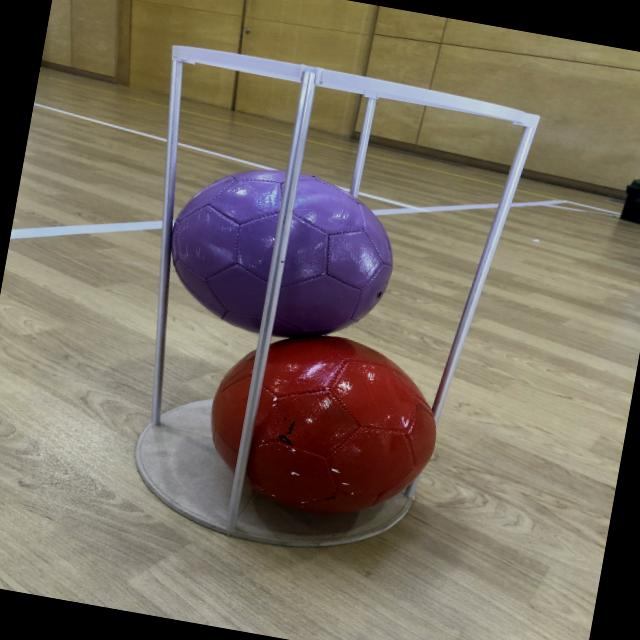purple_ball: (154, 150, 408, 357)
red_ball: (195, 317, 456, 528)
